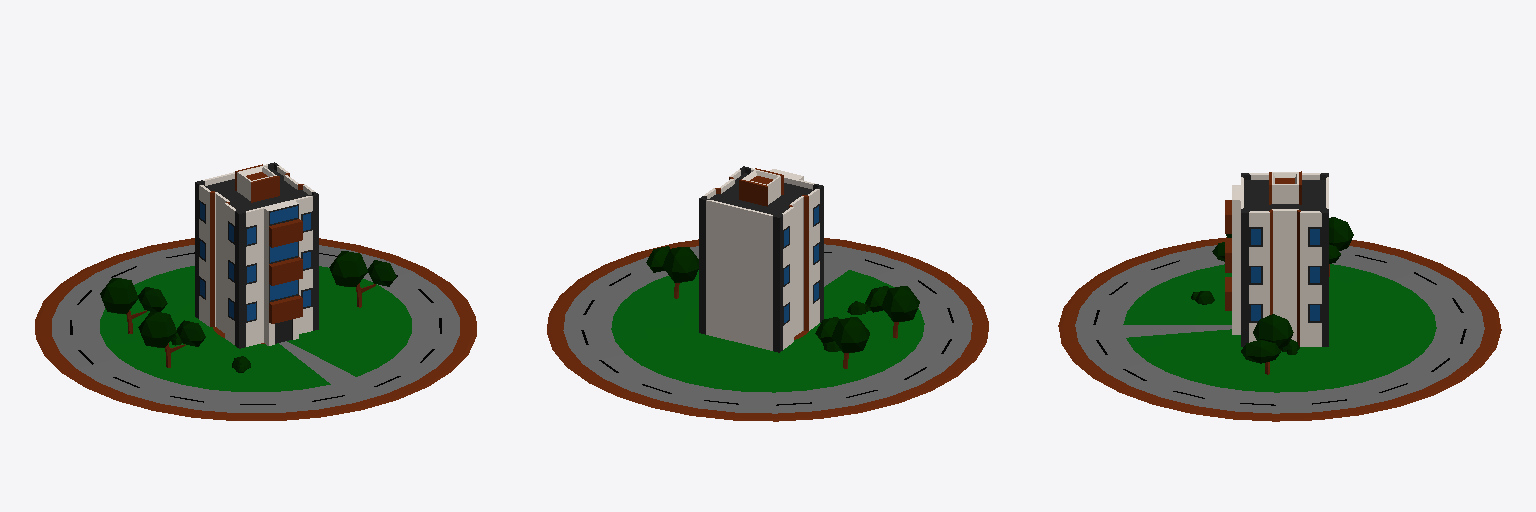
The model's file is Apartament_1242.obj.
3 views of the same model, side by side, from view 1: azimuth 30°, elevation 25°; view 2: azimuth 150°, elevation 25°; view 3: azimuth 270°, elevation 25° (orthographic).
Parts seen in each view (by area): view 1: Sphere001, Box001; view 2: Sphere001, Box001; view 3: Sphere001, Box001.
Boxes of the visible parts, box(x1,y1,x2,y2) form: Sphere001: box(35, 238, 476, 420); Box001: box(195, 162, 318, 348); Sphere001: box(547, 238, 988, 421); Box001: box(699, 166, 823, 352); Sphere001: box(1058, 217, 1501, 421); Box001: box(1225, 171, 1328, 346).
Size of the model in its own units: 144 by 56.93 by 144.